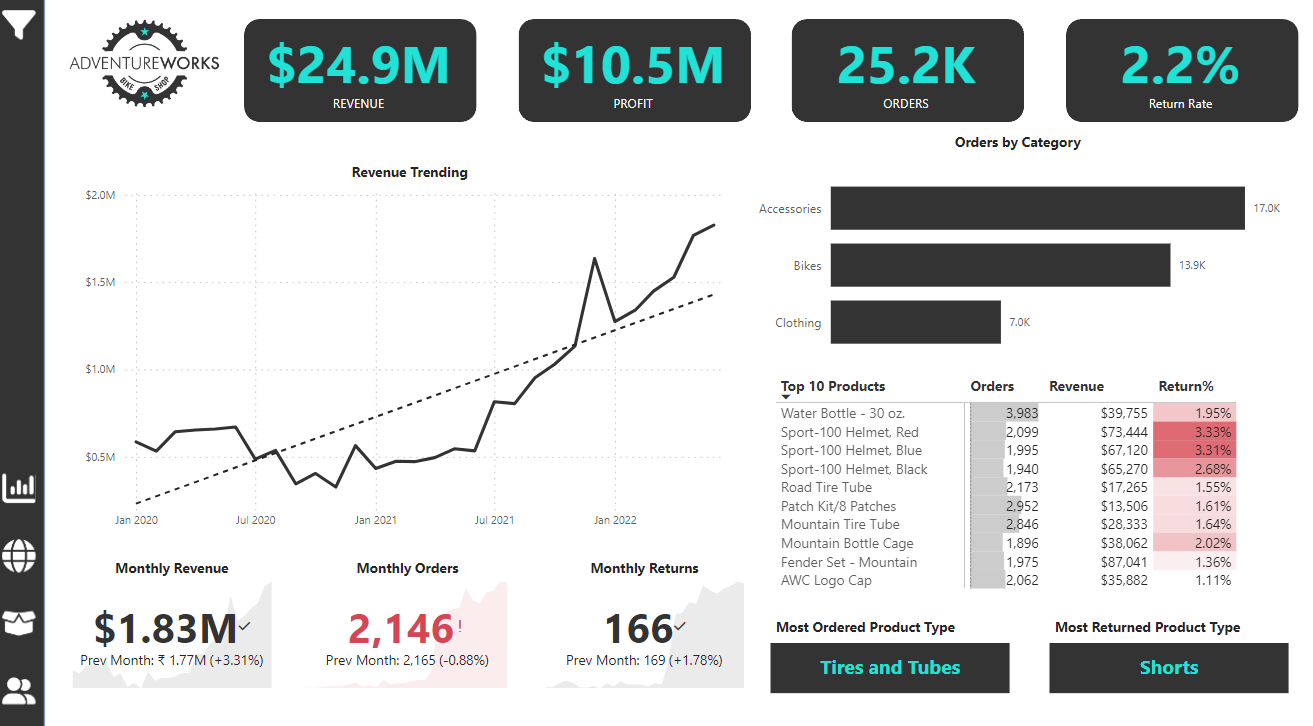

This screenshot's page, from the dashboard's own definition file:
{"tool":"powerbi","page":{"name":"Exec Dashboard","canvas":[1280,720],"ordinal":0},"visuals":[{"type":"image","title":"AW Logo","box":[48.3,0,188.3,138.3],"z":0},{"type":"card","fields":{"Values":["Measure Table.Total Revenue"]},"box":[244,12,210,126],"z":0,"group":"g2"},{"type":"group","id":"g1","title":"KPI Backgrounds","box":[238,26,1024,100],"z":0,"group":"g3"},{"type":"shape","box":[238,26,225.7,100],"z":0,"group":"g1"},{"type":"actionButton","box":[0,461.5,85.8,40.5],"z":0,"group":"g4"},{"type":"shape","title":"Left Nav Background","box":[0,0,45,720],"z":1000},{"type":"group","id":"g2","title":"KPI Values","box":[244,12,1008,126],"z":1000,"group":"g3"},{"type":"card","fields":{"Values":["Measure Table.Total Profit"]},"box":[510,12,210,126],"z":1000,"group":"g2"},{"type":"shape","box":[769.4,26,225.7,100],"z":1000,"group":"g1"},{"type":"actionButton","box":[0,526.8,85.8,40.5],"z":1000,"group":"g4"},{"type":"group","id":"g3","title":"KPIs","box":[238,12,1024,126],"z":2000},{"type":"card","fields":{"Values":["Measure Table.Total Orders"]},"box":[776,12,210,126],"z":2000,"group":"g2"},{"type":"shape","box":[1035.1,26,225.7,100],"z":2000,"group":"g1"},{"type":"actionButton","box":[0,592.1,85.8,40.5],"z":2000,"group":"g4"},{"type":"card","fields":{"Values":["Measure Table.Return Rate"]},"box":[1042,12,210,126],"z":3000,"group":"g2"},{"type":"shape","box":[503.7,26,225.7,100],"z":3000,"group":"g1"},{"type":"lineChart","title":"Revenue Trending","fields":{"Y":["Measure Table.Total Revenue"],"Category":["Calendar Lookup.Year","Calendar Lookup.Start of Quarter","Calendar Lookup.Start of Month"]},"box":[78.3,165,641.7,365],"z":3000},{"type":"actionButton","box":[0,657.4,85.8,40.5],"z":3000,"group":"g4"},{"type":"kpi","title":"Monthly Revenue ","fields":{"Indicator":["Measure Table.Total Revenue"],"TrendLine":["Calendar Lookup.Start of Month"],"Goal":["Measure Table.Previous Month Revenue"]},"box":[66.7,548.3,203.3,131.7],"z":4000},{"type":"kpi","title":"Monthly Orders","fields":{"TrendLine":["Calendar Lookup.Start of Month"],"Indicator":["Measure Table.Total Orders"],"Goal":["Measure Table.Previous Month Orders"]},"box":[295.8,548.3,203.3,131.7],"z":5000},{"type":"kpi","title":"Monthly Returns","fields":{"TrendLine":["Calendar Lookup.Start of Month"],"Indicator":["Measure Table.Total Returns"],"Goal":["Measure Table.Previous Month Returns"]},"box":[525,548.3,203.3,131.7],"z":6000},{"type":"clusteredBarChart","title":"Orders by Category","fields":{"Category":["Product Categories Lookup.CategoryName"],"Y":["Measure Table.Total Orders"]},"box":[728.3,135,523.3,235],"z":7000},{"type":"pivotTable","fields":{"Rows":["Product Lookup.ProductName"],"Values":["Measure Table.Total Orders","Measure Table.Total Revenue","Measure Table.Return Rate"]},"box":[750,366.7,501.7,221.7],"z":8000},{"type":"card","fields":{"Values":["Min(Product Subcategories Lookup.SubcategoryName)"]},"box":[750,631.7,231.7,48.3],"z":9000},{"type":"textbox","box":[750,601.7,198.3,30],"z":10000},{"type":"card","fields":{"Values":["Min(Product Subcategories Lookup.SubcategoryName)"]},"box":[1020,631.7,231.7,48.3],"z":11000},{"type":"textbox","box":[1020,601.7,231.7,30],"z":12000},{"type":"group","id":"g4","title":"Navigation Buttons","box":[0,461.5,85.8,236.4],"z":13000},{"type":"actionButton","box":[0,11.3,100.4,40.5],"z":14000}]}

Visuals, with their boxes on the page's 1280x720 design canvas (x1, y1, x2, y2). These are canvas units, not pixel positions in the 1313x726 screenshot, which may show the page scaled, cropped or inside an application window:
"AW Logo" image: {"left": 48, "top": 0, "right": 237, "bottom": 138}
card - Measure Table.Total Revenue: {"left": 244, "top": 12, "right": 454, "bottom": 138}
"KPI Backgrounds" group: {"left": 238, "top": 26, "right": 1262, "bottom": 126}
shape: {"left": 238, "top": 26, "right": 464, "bottom": 126}
actionButton: {"left": 0, "top": 462, "right": 86, "bottom": 502}
"Left Nav Background" shape: {"left": 0, "top": 0, "right": 45, "bottom": 720}
"KPI Values" group: {"left": 244, "top": 12, "right": 1252, "bottom": 138}
card - Measure Table.Total Profit: {"left": 510, "top": 12, "right": 720, "bottom": 138}
shape: {"left": 769, "top": 26, "right": 995, "bottom": 126}
actionButton: {"left": 0, "top": 527, "right": 86, "bottom": 567}
"KPIs" group: {"left": 238, "top": 12, "right": 1262, "bottom": 138}
card - Measure Table.Total Orders: {"left": 776, "top": 12, "right": 986, "bottom": 138}
shape: {"left": 1035, "top": 26, "right": 1261, "bottom": 126}
actionButton: {"left": 0, "top": 592, "right": 86, "bottom": 633}
card - Measure Table.Return Rate: {"left": 1042, "top": 12, "right": 1252, "bottom": 138}
shape: {"left": 504, "top": 26, "right": 729, "bottom": 126}
"Revenue Trending" lineChart: {"left": 78, "top": 165, "right": 720, "bottom": 530}
actionButton: {"left": 0, "top": 657, "right": 86, "bottom": 698}
"Monthly Revenue " kpi: {"left": 67, "top": 548, "right": 270, "bottom": 680}
"Monthly Orders" kpi: {"left": 296, "top": 548, "right": 499, "bottom": 680}
"Monthly Returns" kpi: {"left": 525, "top": 548, "right": 728, "bottom": 680}
"Orders by Category" clusteredBarChart: {"left": 728, "top": 135, "right": 1252, "bottom": 370}
pivotTable - Product Lookup.ProductName x Measure Table.Total Orders: {"left": 750, "top": 367, "right": 1252, "bottom": 588}
card - Min(Product Subcategories Lookup.SubcategoryName): {"left": 750, "top": 632, "right": 982, "bottom": 680}
textbox: {"left": 750, "top": 602, "right": 948, "bottom": 632}
card - Min(Product Subcategories Lookup.SubcategoryName): {"left": 1020, "top": 632, "right": 1252, "bottom": 680}
textbox: {"left": 1020, "top": 602, "right": 1252, "bottom": 632}
"Navigation Buttons" group: {"left": 0, "top": 462, "right": 86, "bottom": 698}
actionButton: {"left": 0, "top": 11, "right": 100, "bottom": 52}
